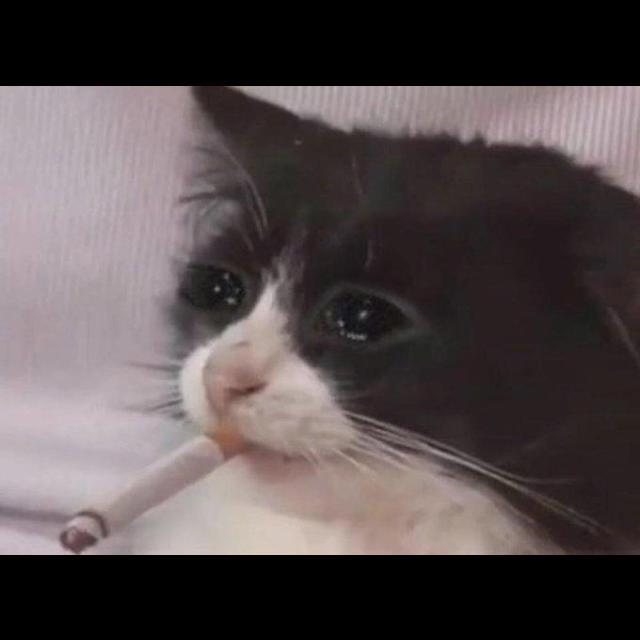rokok: (60, 418, 248, 554)
